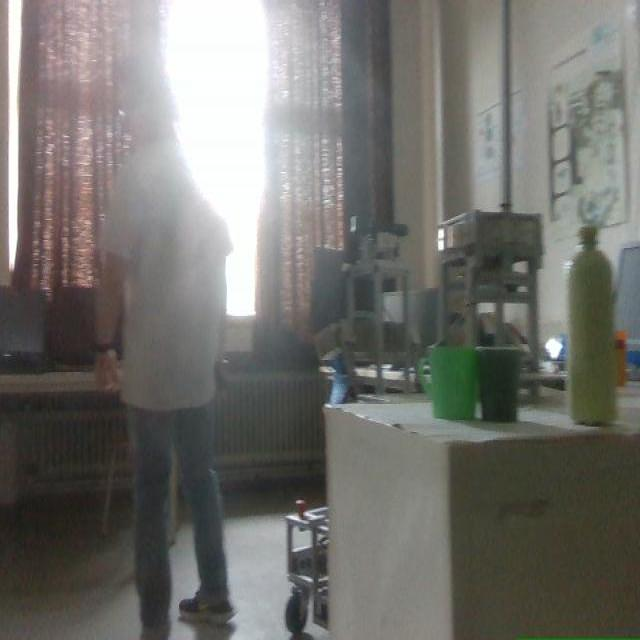humans: (95, 56, 233, 639)
objects: (326, 392, 639, 639), (568, 225, 616, 425), (416, 345, 478, 419), (475, 347, 522, 420)
